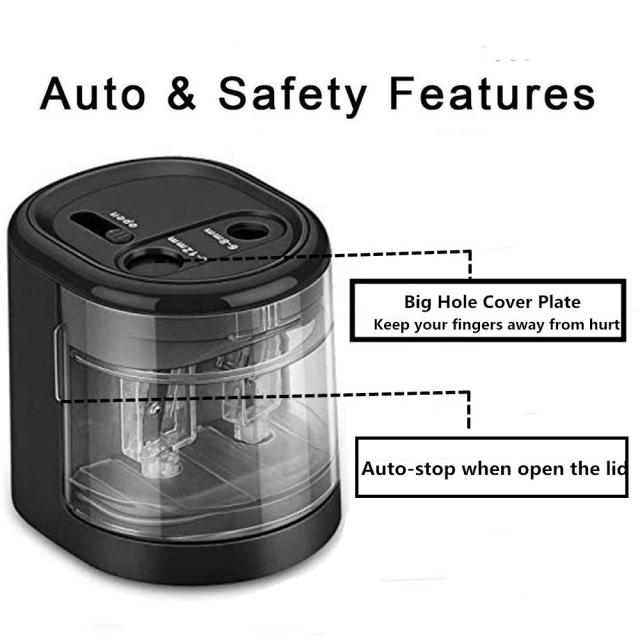pencil_sharpener: (0, 128, 361, 602)
